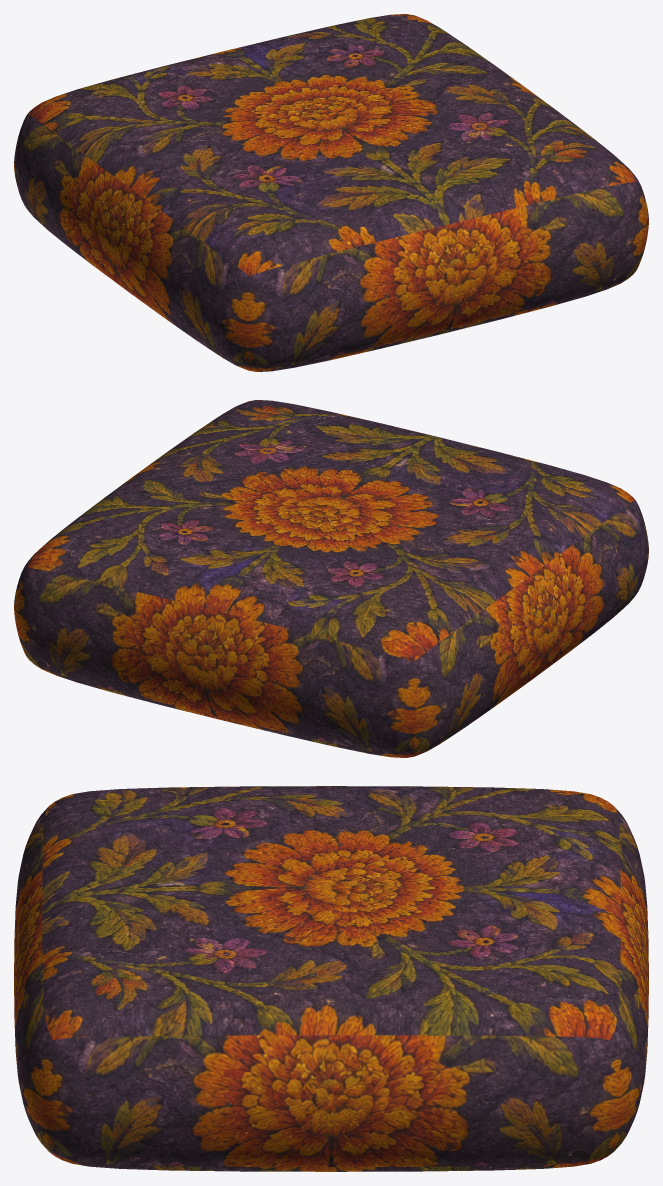
Rendered from coussin-violet.glb.
3 views of the same model, one above another, from view 1: azimuth 30°, elevation 25°; view 2: azimuth 150°, elevation 25°; view 3: azimuth 270°, elevation 25° (orthographic). The views are drawn at different scales.
Visible parts, largest first — view 1: Cube; view 2: Cube; view 3: Cube.
Part boxes in pixels (box(x1,y1,x2,y2)): Cube: box(14, 14, 648, 371); Cube: box(14, 400, 648, 757); Cube: box(14, 786, 648, 1171).
Size of the model in its own units: 0.4984 by 0.1584 by 0.4984.
Materials: 1 (1 with a texture image).
